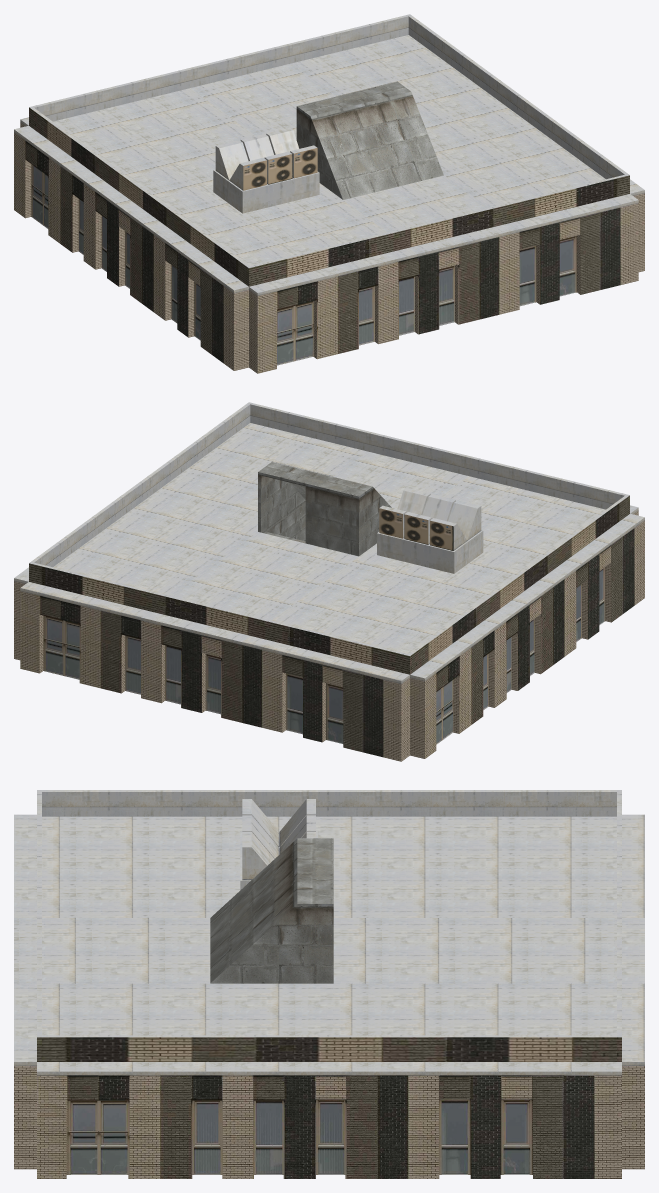
The model's file is BagSS04top_high.fbx.
The picture shows the model from 3 angles, top to bottom: view 1: azimuth 30°, elevation 25°; view 2: azimuth 150°, elevation 25°; view 3: azimuth 270°, elevation 25°; orthographic projection. The views are drawn at different scales.
Visible parts, largest first — view 1: toproof700, topMainA700, topStairs700, topRim700, topVentA700; view 2: toproof700, topMainA700, topRim700, topStairs700, topVentA700; view 3: toproof700, topMainA700, topRim700, topStairs700.
Boxes of the visible parts, left/top/right/bottom form: toproof700: left=14, top=14, right=644, bottom=295; topMainA700: left=14, top=122, right=644, bottom=373; topStairs700: left=296, top=81, right=443, bottom=199; topRim700: left=29, top=107, right=629, bottom=286; topVentA700: left=243, top=148, right=317, bottom=190; toproof700: left=14, top=402, right=644, bottom=683; topMainA700: left=14, top=510, right=644, bottom=761; topRim700: left=29, top=495, right=629, bottom=674; topStairs700: left=258, top=462, right=391, bottom=556; topVentA700: left=379, top=508, right=453, bottom=550; toproof700: left=14, top=790, right=644, bottom=1075; topMainA700: left=14, top=1066, right=644, bottom=1178; topRim700: left=37, top=1037, right=621, bottom=1061; topStairs700: left=210, top=838, right=333, bottom=983.
Size of the model in its own units: 22.1 by 7.23 by 22.1.
